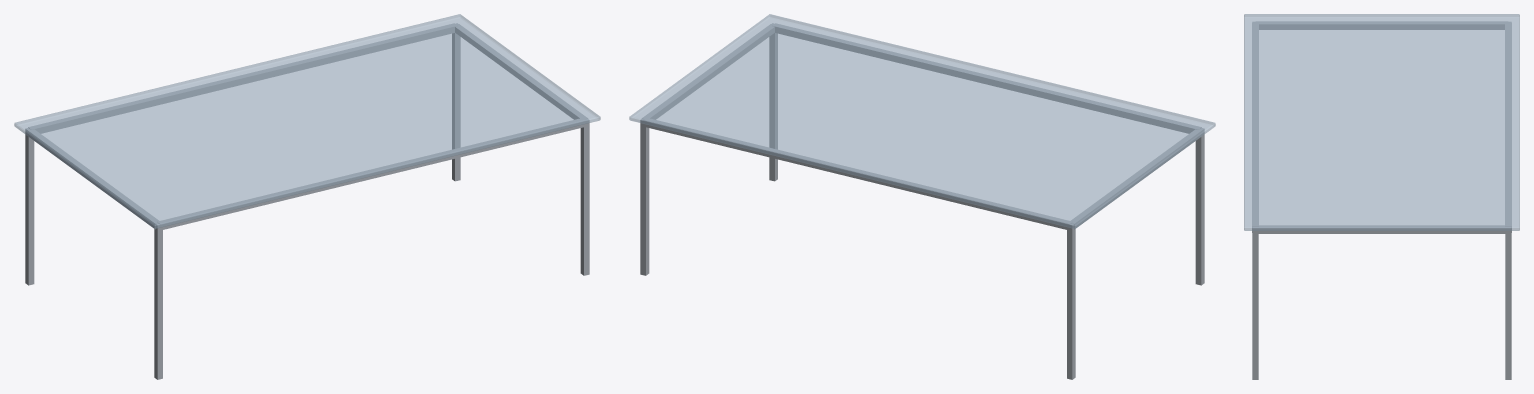
The model's file is meeting_table.glb.
The picture shows the model from 3 angles, left to right: view 1: azimuth 30°, elevation 25°; view 2: azimuth 150°, elevation 25°; view 3: azimuth 270°, elevation 25°; orthographic projection. The views are drawn at different scales.
Parts seen in each view (by area): view 1: meeting_table; view 2: meeting_table; view 3: meeting_table.
Boxes of the visible parts, x1,y1,x2,y2 form: meeting_table: (14, 14, 600, 379); meeting_table: (629, 14, 1215, 379); meeting_table: (1244, 14, 1519, 379).
Size of the model in its own units: 2.2 by 0.75 by 1.2.
